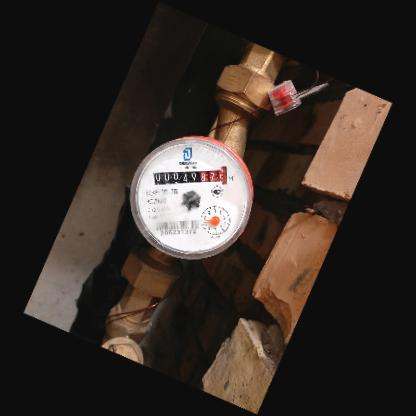digital_screen: (150, 168, 198, 186)
